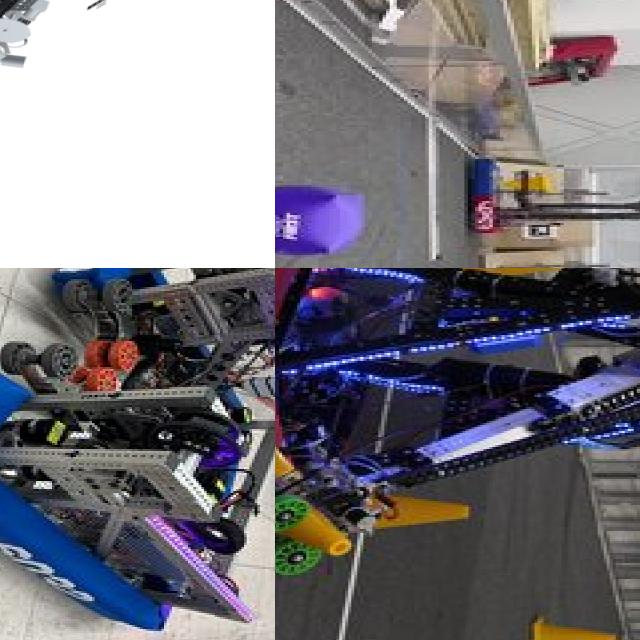FRC-Robots: (275, 268, 640, 622), (0, 268, 275, 640), (0, 0, 275, 101), (472, 138, 640, 240)
